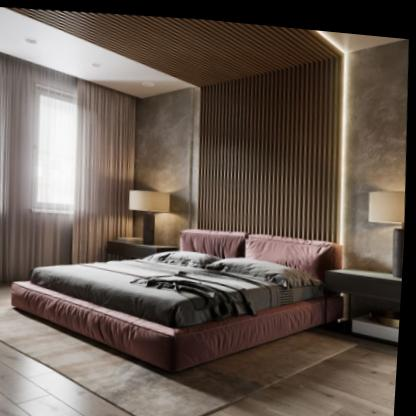Bed: (14, 225, 346, 370)
Curtains: (0, 53, 140, 281)
Lamp: (367, 177, 409, 271), (126, 182, 178, 244)
Nightstand: (329, 262, 405, 335)
Wall Panel: (138, 33, 409, 265)
Wooden floor: (204, 341, 401, 416), (0, 339, 141, 416)
